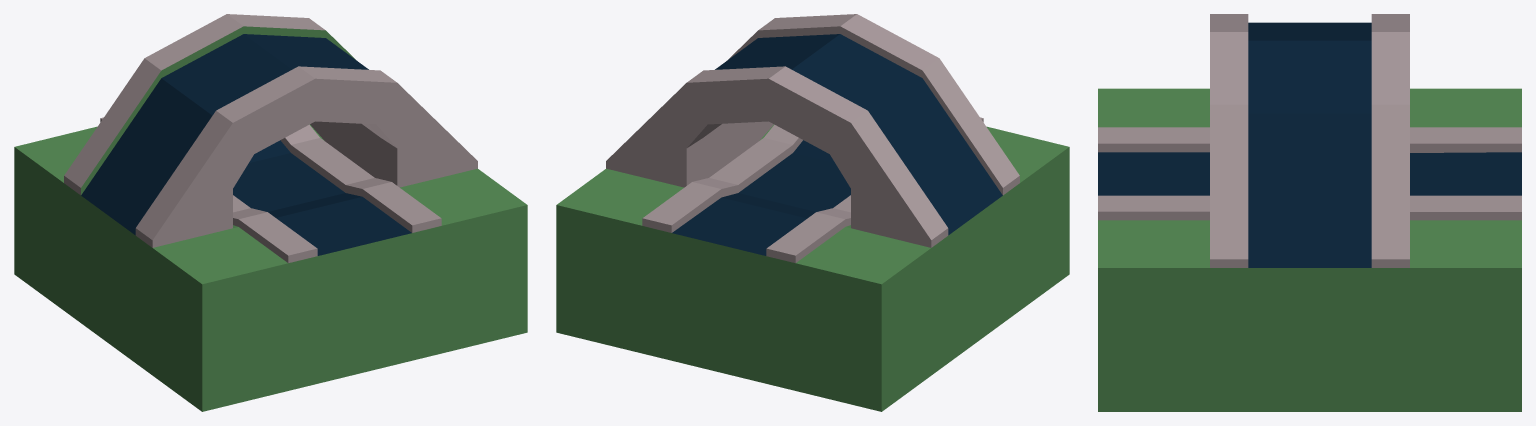
The model's file is Bridge.fbx.
The picture shows the model from 3 angles, left to right: view 1: azimuth 30°, elevation 25°; view 2: azimuth 150°, elevation 25°; view 3: azimuth 270°, elevation 25°; orthographic projection. The views are drawn at different scales.
Visible parts, largest first — view 1: Cube.014; view 2: Cube.014; view 3: Cube.014.
Part boxes in pixels (x1=…): Cube.014: x1=14, y1=14, x2=527, y2=411; Cube.014: x1=556, y1=14, x2=1069, y2=411; Cube.014: x1=1098, y1=14, x2=1521, y2=411.
Size of the model in its own units: 400 by 302 by 400.
